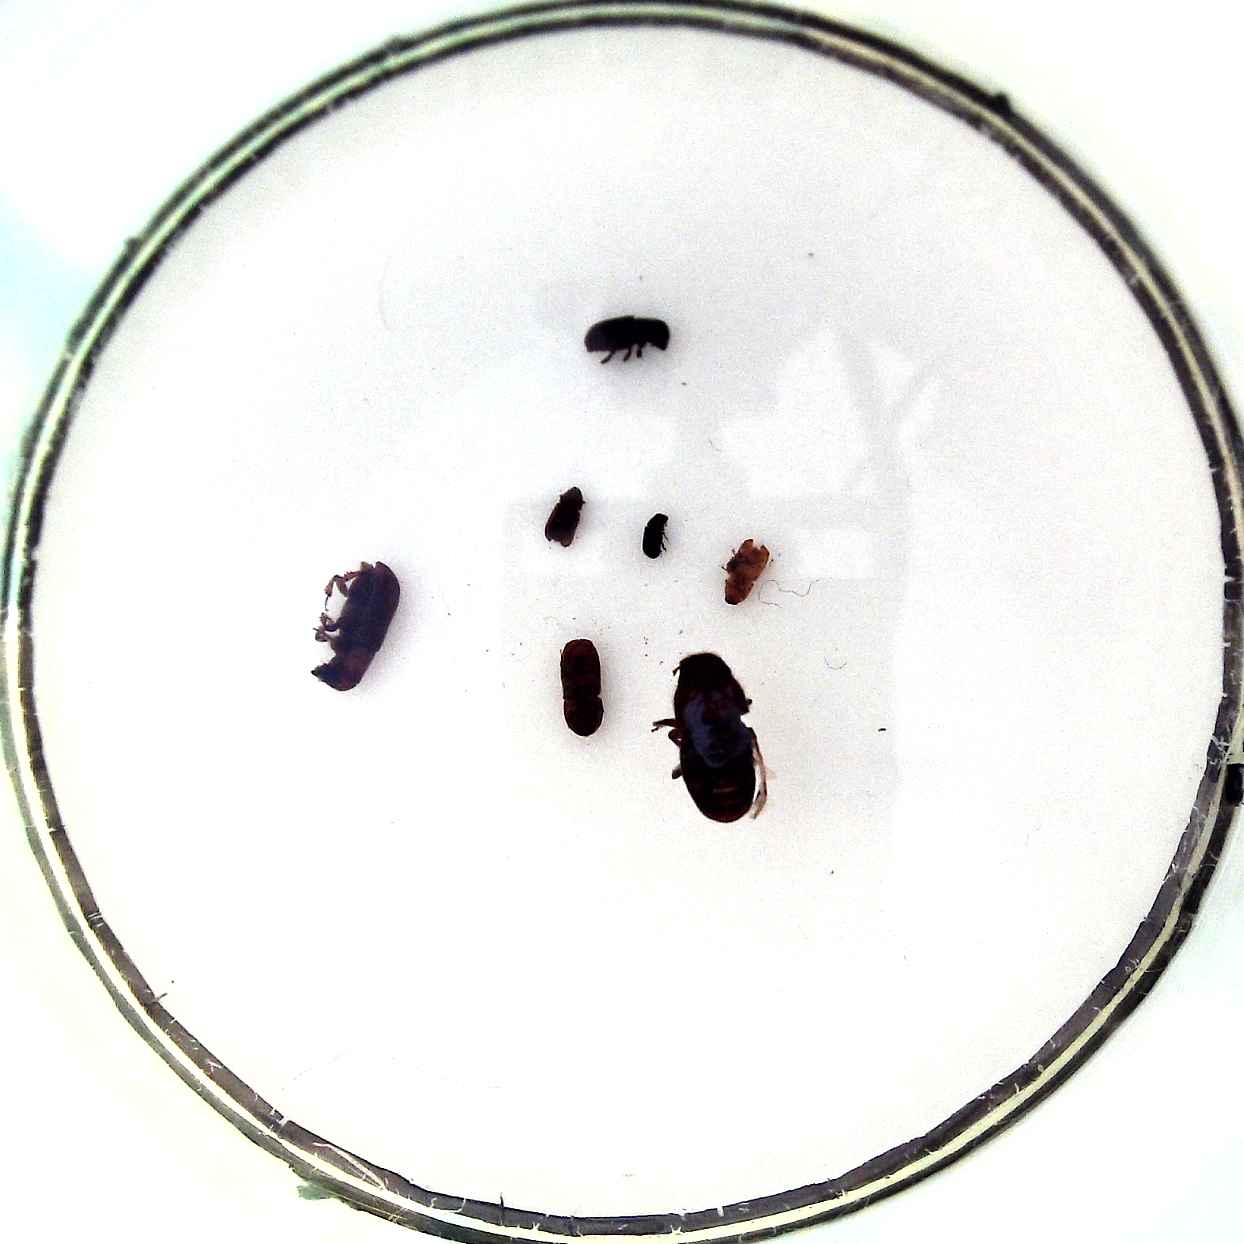Leconte: (668, 652, 756, 822), (310, 560, 399, 691)
acuminatus: (643, 513, 668, 558)
armandi: (584, 316, 671, 353)
coleoptera: (723, 537, 769, 605), (543, 486, 582, 547)
linnaeus: (560, 639, 605, 737)
